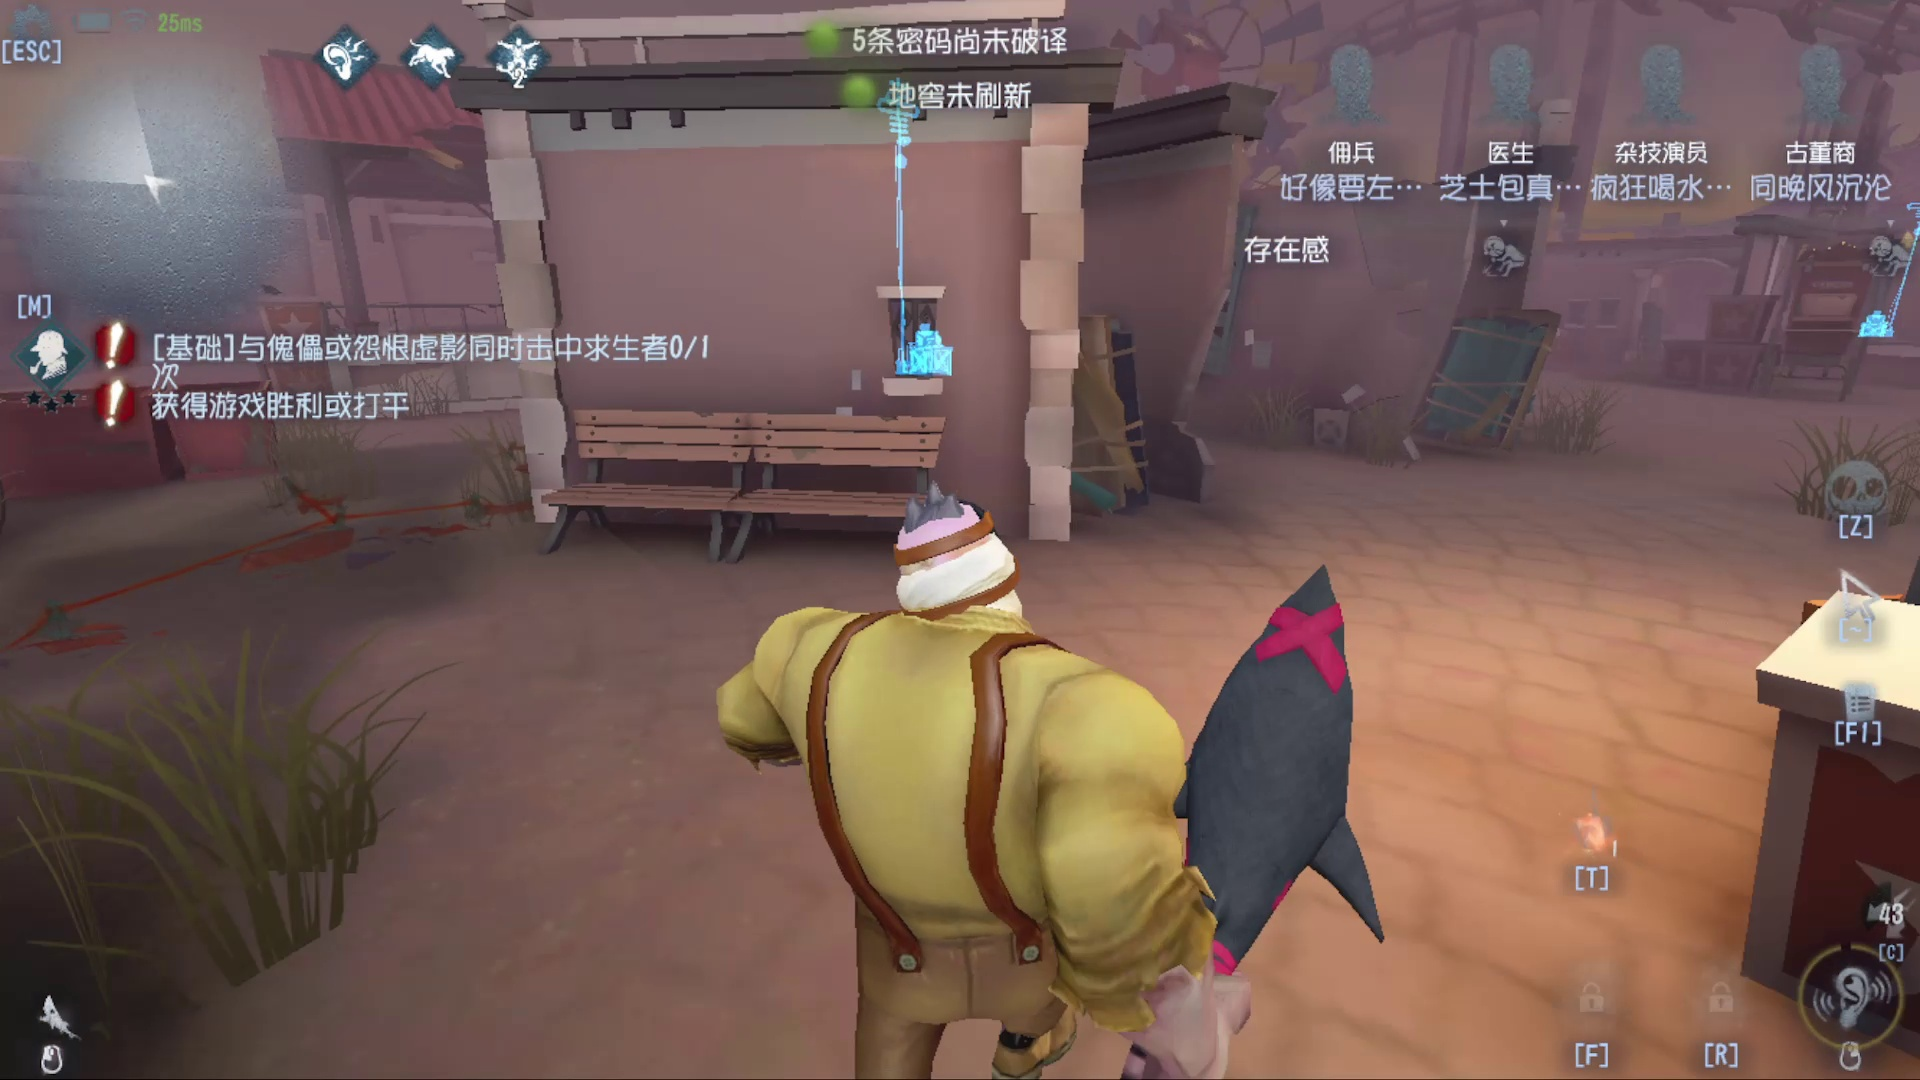密码机: (860, 71, 976, 382), (1840, 193, 1920, 355)
木板: (1023, 282, 1178, 542), (1415, 284, 1553, 473)
脚印: (13, 495, 512, 658)
